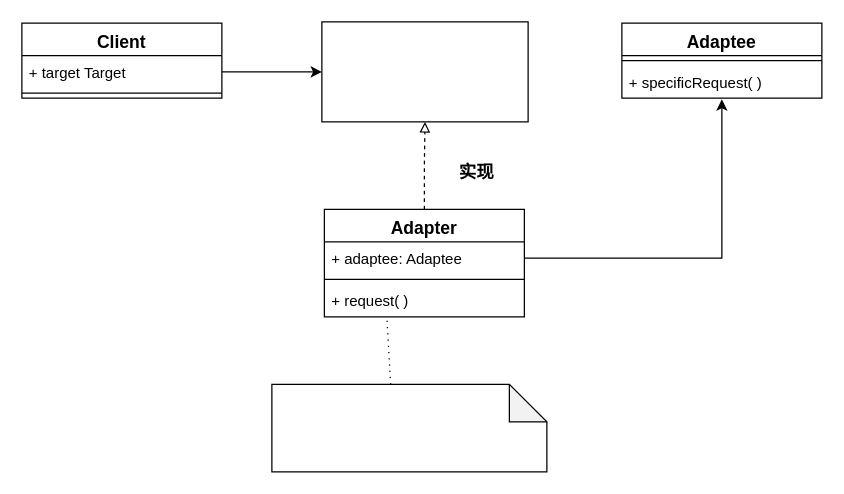
Some shapes in this 844 by 494 pixel diagram are drawn without their labels. Here are the shapes that lost their labels. From the top down, the centre of each, then its label:
point (424, 71): <<Interface>> Target + request( )
point (409, 427): adaptee.specificRequest()
